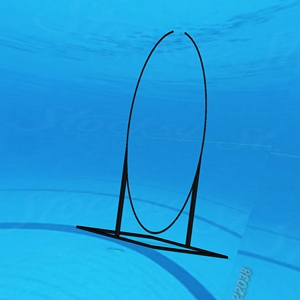circle: (74, 29, 229, 264)
